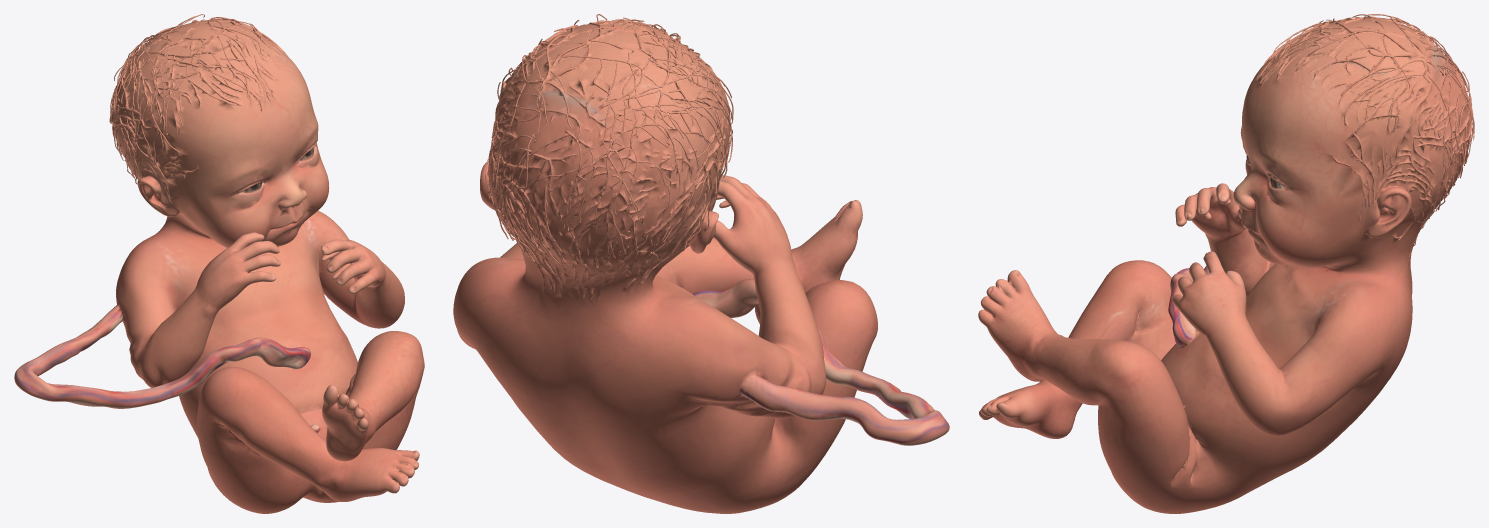
Rendered from semaine-21.glb.
3 renders of one model, left to right at view 1: azimuth 30°, elevation 25°; view 2: azimuth 150°, elevation 25°; view 3: azimuth 270°, elevation 25°, orthographic. The views are drawn at different scales.
Bounding box in the file's own units: 1.77 × 1.89 × 1.82.
1 material, 1 textured.
